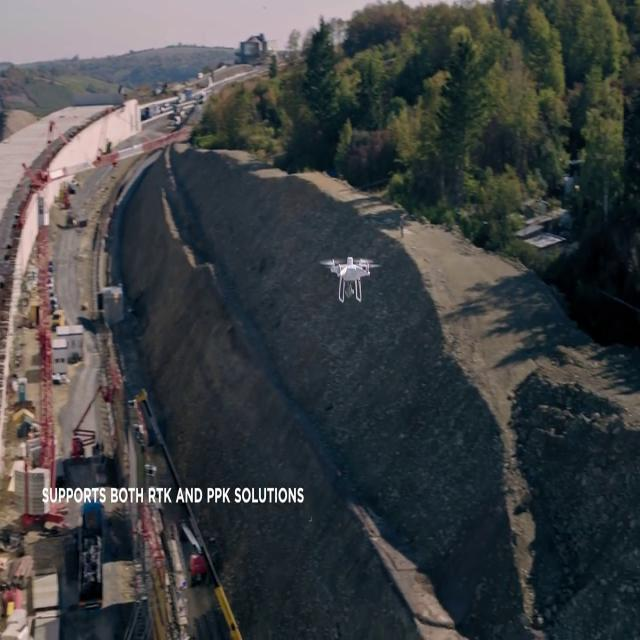drone: (317, 253, 382, 303)
